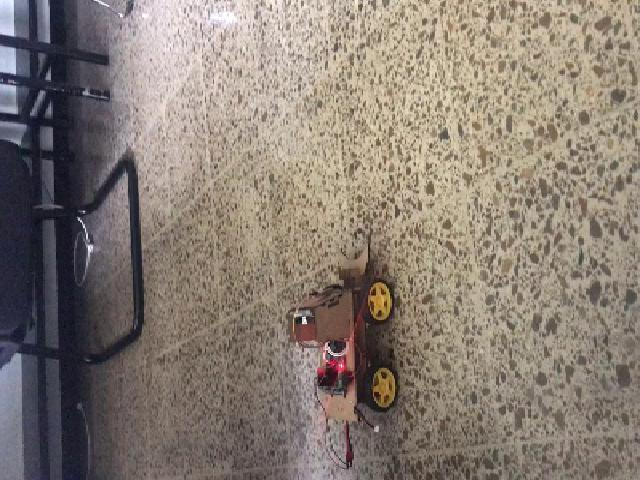Robot: (288, 242, 398, 422)
